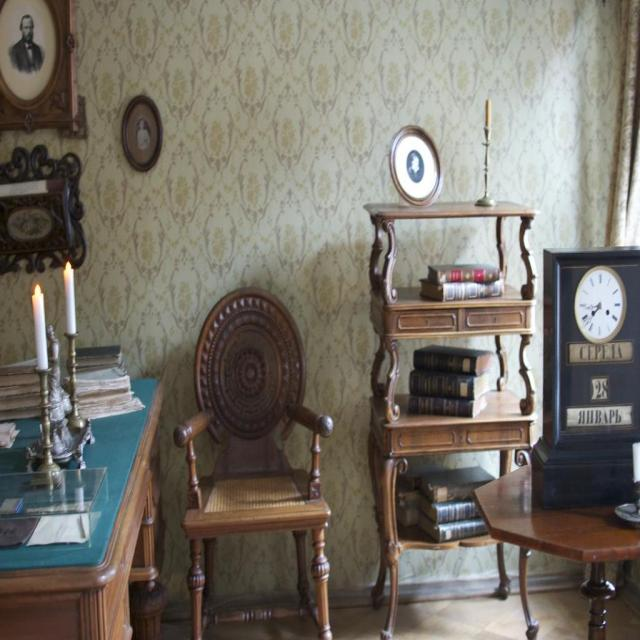chair: (173, 313, 334, 637)
desk: (458, 442, 640, 632)
